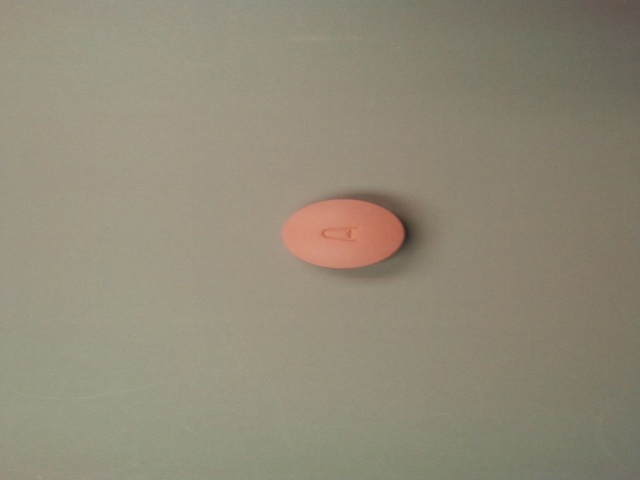A: (317, 223, 363, 248)
